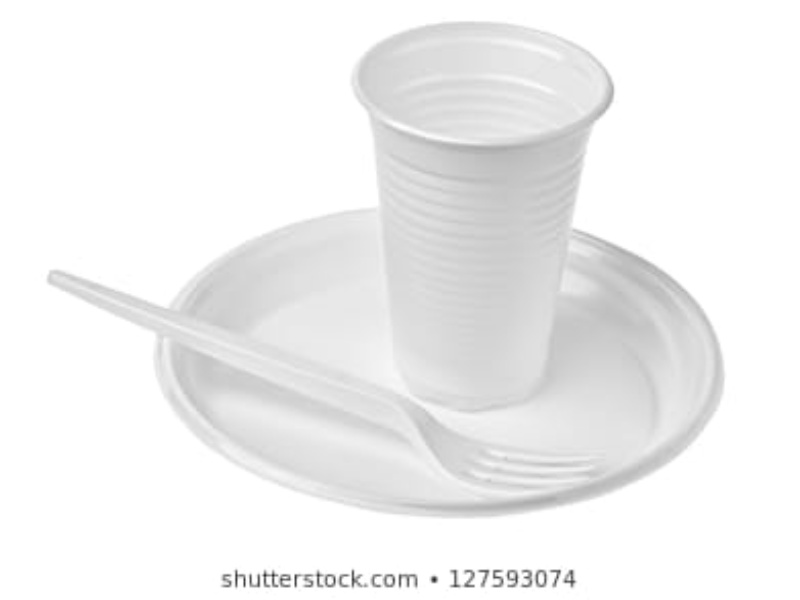plastic-cup: (348, 15, 618, 412)
plastic-plate: (150, 205, 725, 524)
plastic-silverware: (45, 266, 610, 500)
